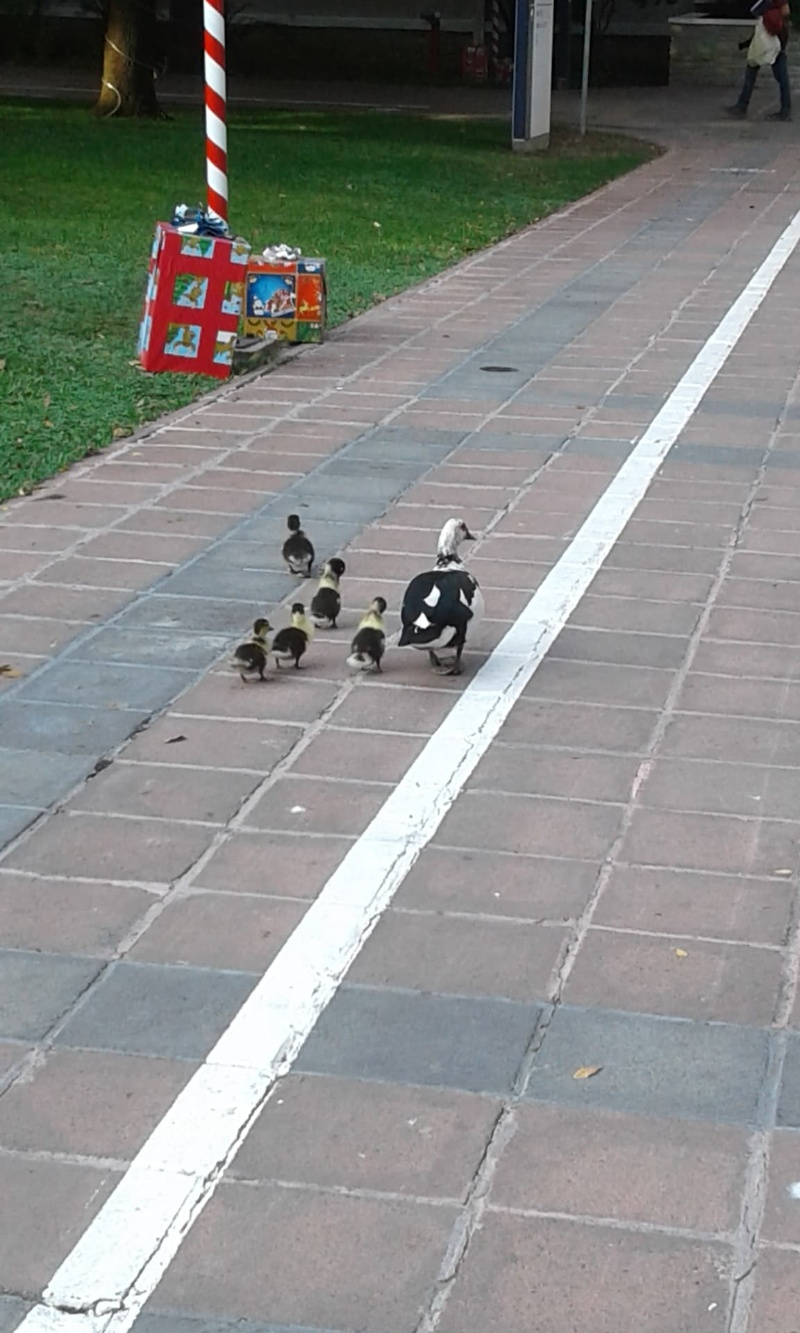pato: (401, 519, 488, 666)
